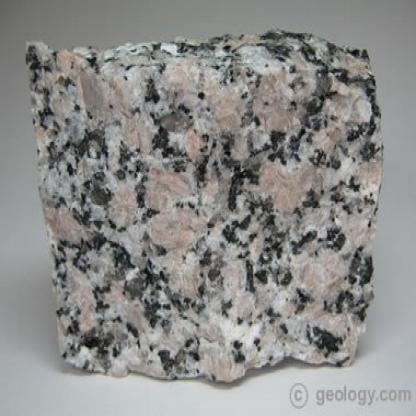Igneous_Granite: (11, 24, 379, 389)
